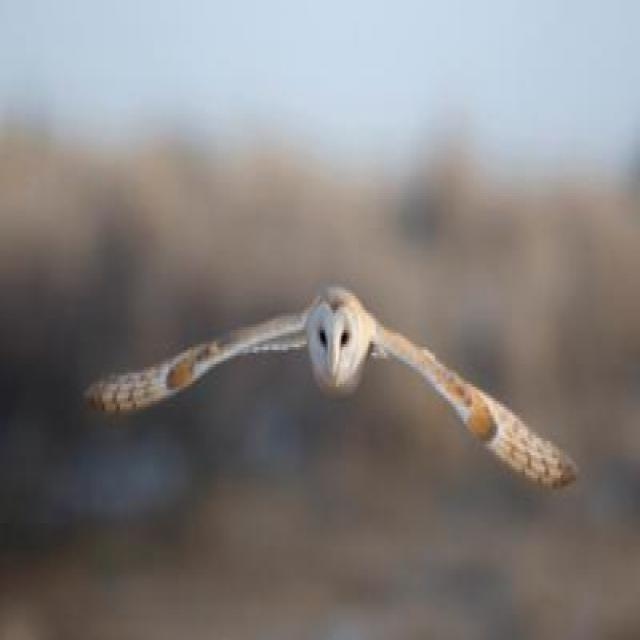birds: (76, 274, 584, 494)
